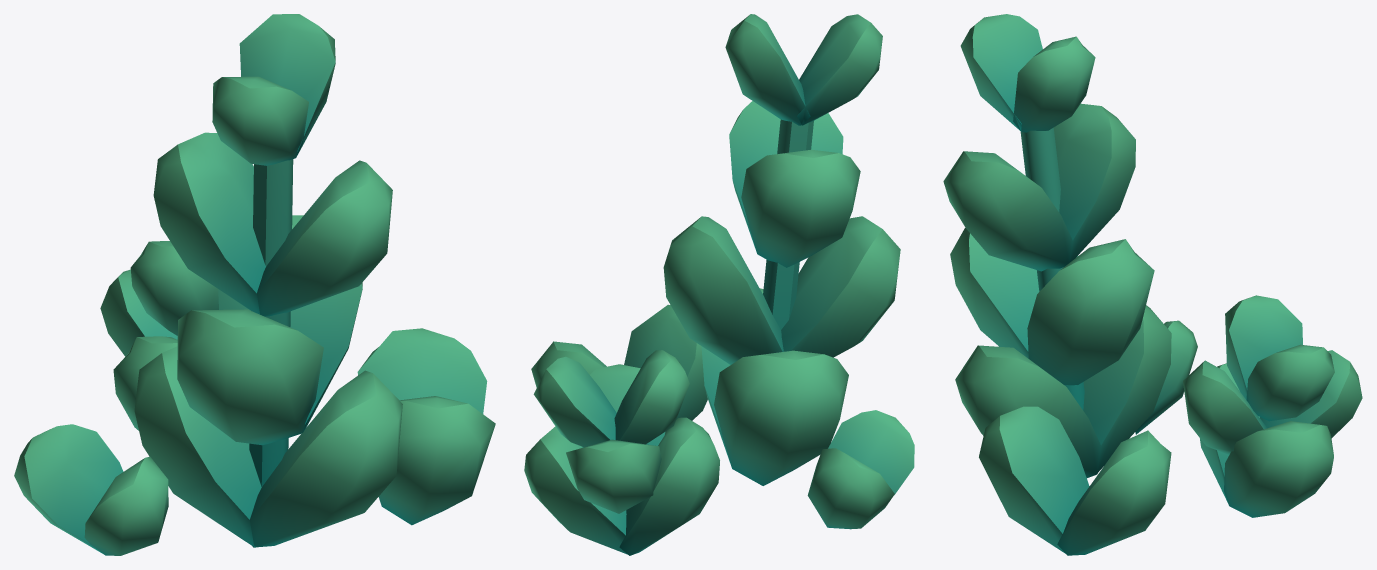
The picture shows the model from 3 angles, left to right: view 1: azimuth 30°, elevation 25°; view 2: azimuth 150°, elevation 25°; view 3: azimuth 270°, elevation 25°; orthographic projection. The views are drawn at different scales.
Parts seen in each view (by area): view 1: LOD 1_13142735058292916171_864aa3741cb91814880953315ea2c192; view 2: LOD 1_13142735058292916171_864aa3741cb91814880953315ea2c192; view 3: LOD 1_13142735058292916171_864aa3741cb91814880953315ea2c192.
Boxes of the visible parts, x1,y1,x2,y2 form: LOD 1_13142735058292916171_864aa3741cb91814880953315ea2c192: (14, 14, 495, 555); LOD 1_13142735058292916171_864aa3741cb91814880953315ea2c192: (524, 14, 914, 555); LOD 1_13142735058292916171_864aa3741cb91814880953315ea2c192: (943, 14, 1362, 555).
Bounding box in the file's own units: 0.6529 × 0.7995 × 0.6564.
